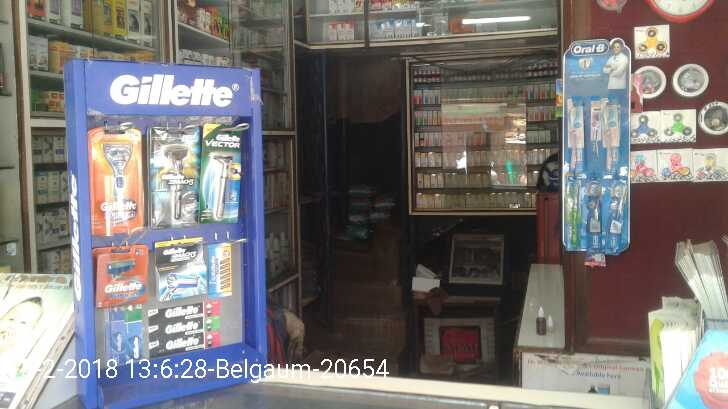beauty: (86, 127, 148, 231), (150, 126, 202, 223), (142, 302, 224, 358), (201, 127, 242, 219), (93, 245, 153, 307), (150, 239, 207, 301)
